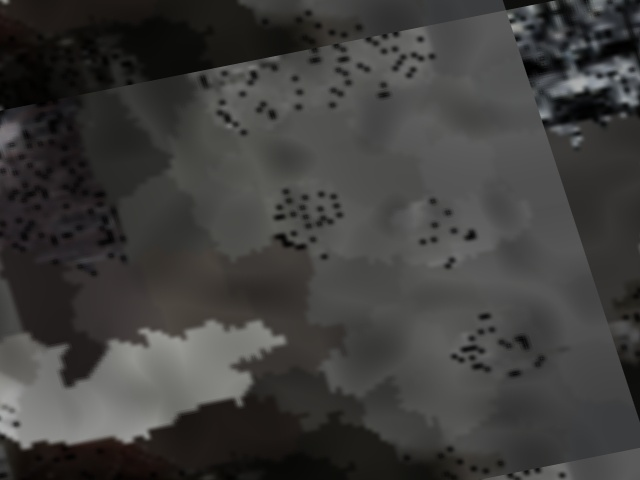two: (0, 402, 17, 432)
